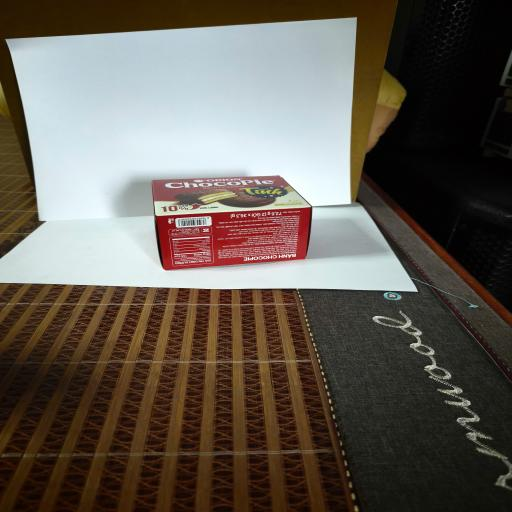chocopie: (152, 175, 312, 270)
